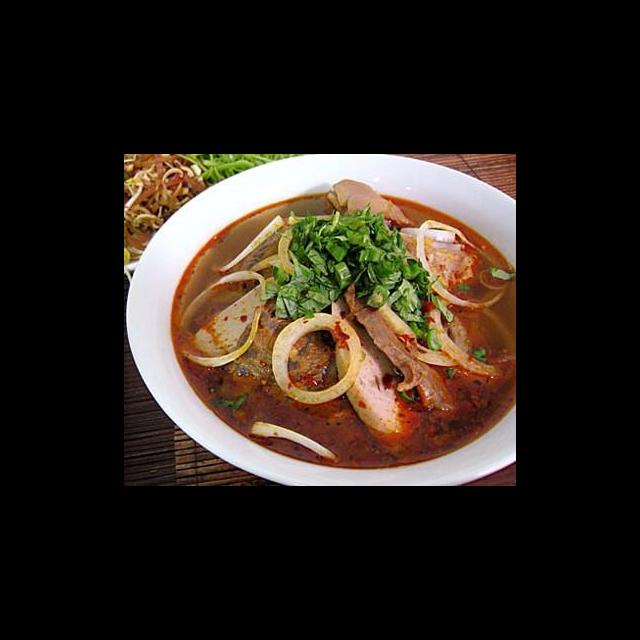thit bo: (214, 304, 347, 440), (341, 277, 464, 416)
